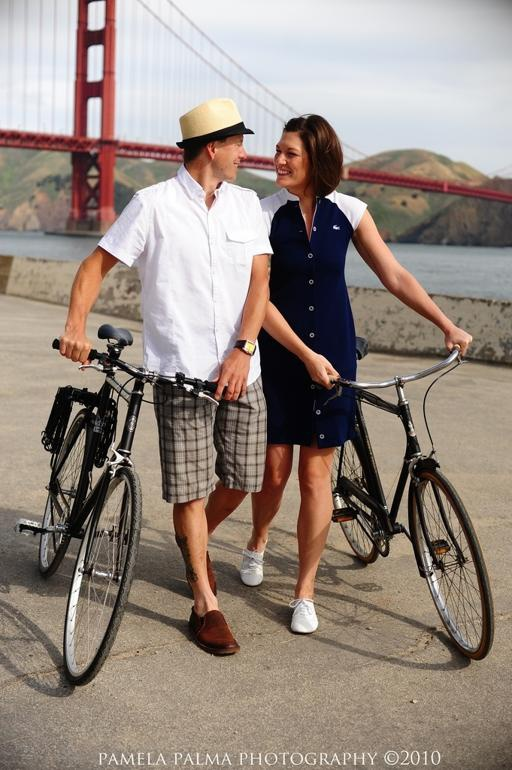non-vehicle: (11, 324, 227, 685), (326, 337, 494, 659)
